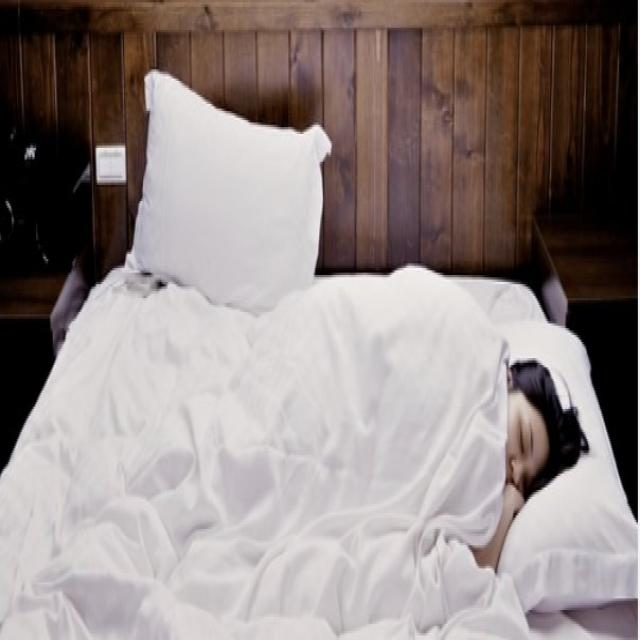sleeping-person: (63, 330, 593, 600)
